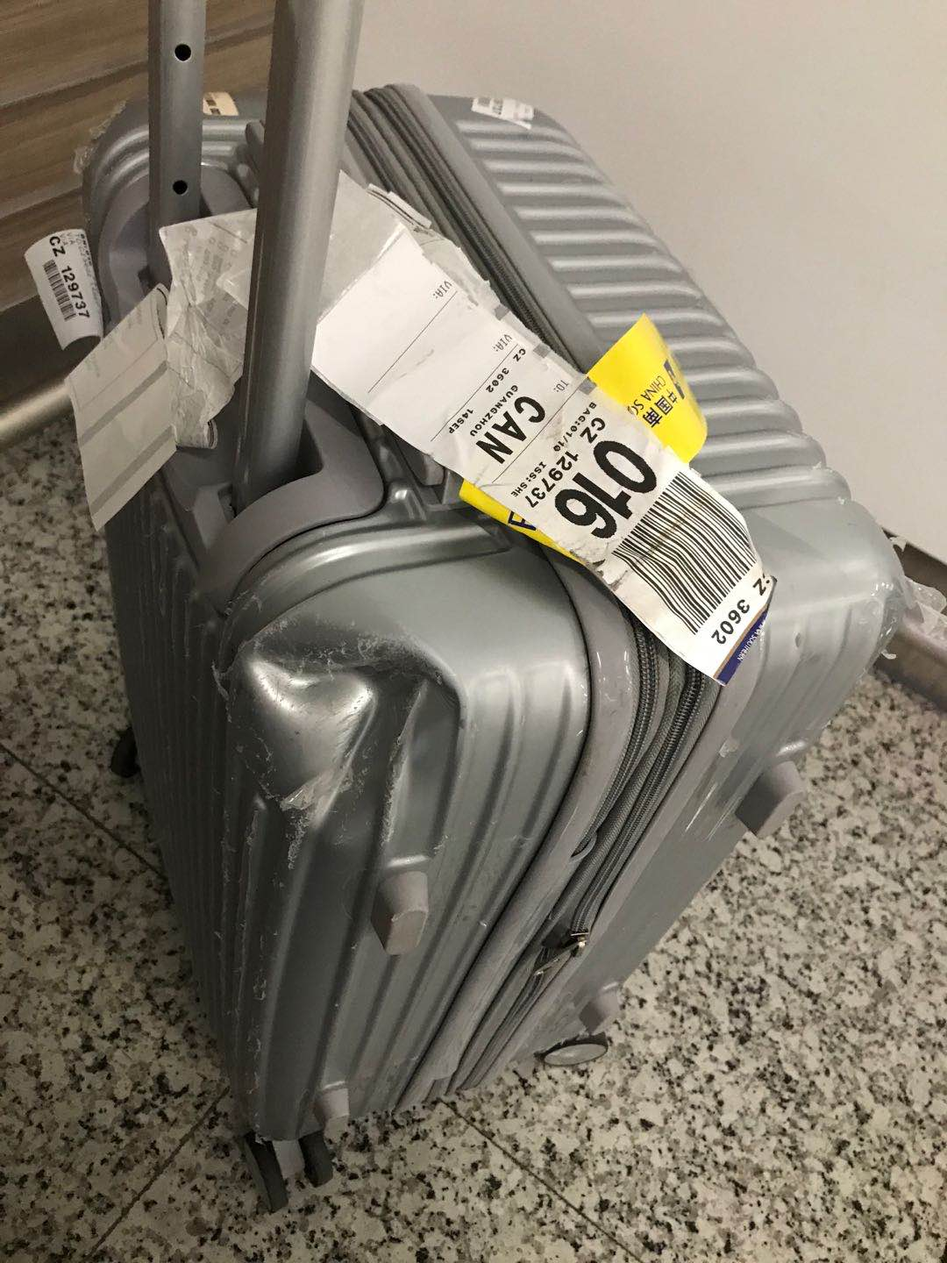rupture: (254, 619, 468, 848)
